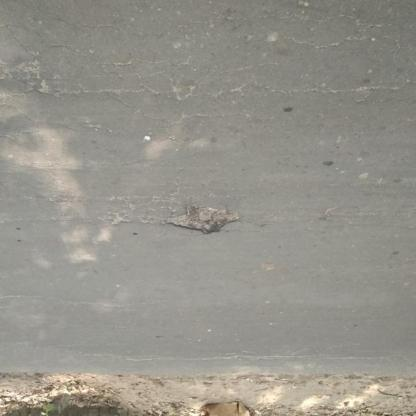pothole: (164, 205, 243, 237)
